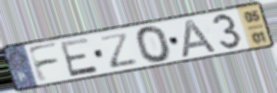3: (212, 11, 244, 53)
A: (181, 18, 221, 59)
E: (58, 36, 100, 78)
F: (25, 41, 61, 84)
O: (134, 24, 174, 64)
Z: (98, 31, 140, 70)
